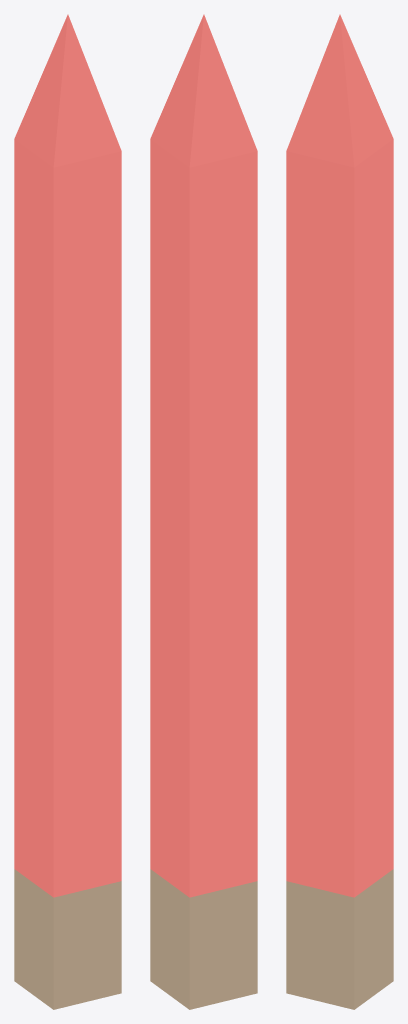
File: Blender_Stake_1.glb
3 views of the same model, side by side, from view 1: azimuth 30°, elevation 25°; view 2: azimuth 210°, elevation 25°; view 3: azimuth 330°, elevation 25° (orthographic).
Parts seen in each view (by area): view 1: Blender_Stake_1; view 2: Blender_Stake_1; view 3: Blender_Stake_1.
Part boxes in pixels (x1,y1,x2,y2): Blender_Stake_1: (14, 14, 121, 1009); Blender_Stake_1: (150, 14, 257, 1009); Blender_Stake_1: (286, 14, 393, 1009).
Size of the model in its own units: 0.07 by 0.9568 by 0.07.
